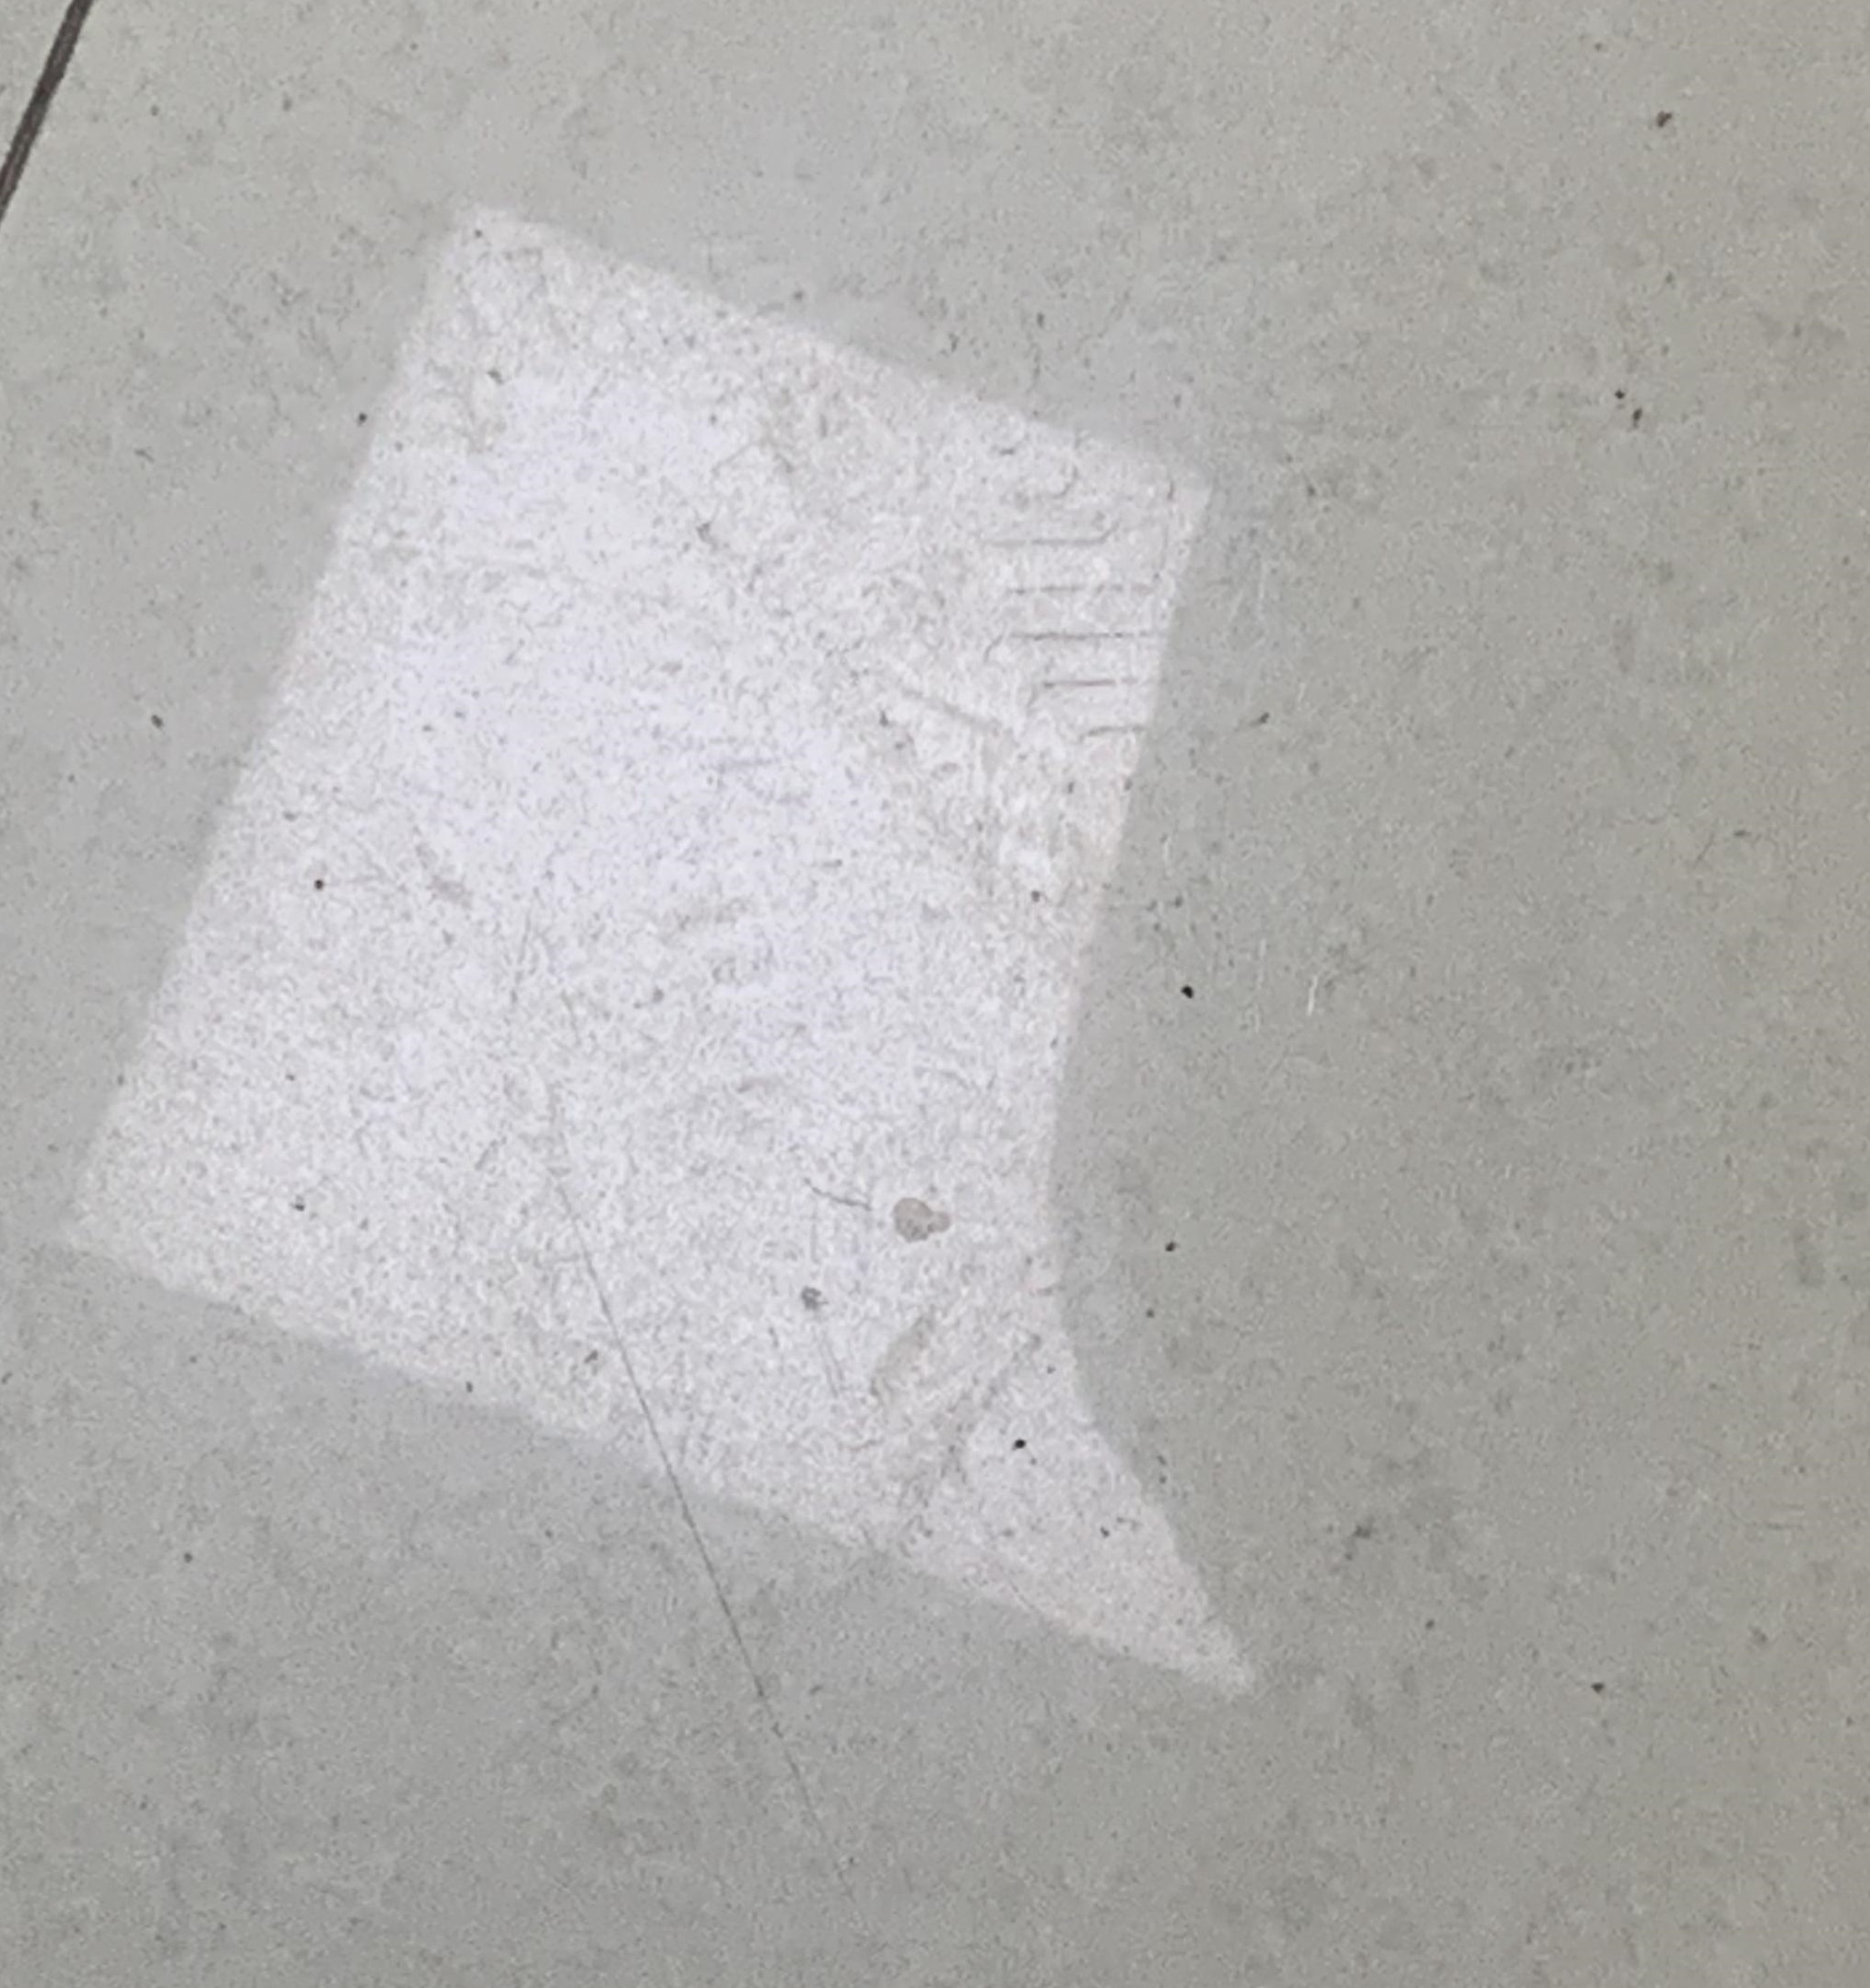reflection: (53, 200, 1257, 1703), (1840, 870, 1870, 1988)
